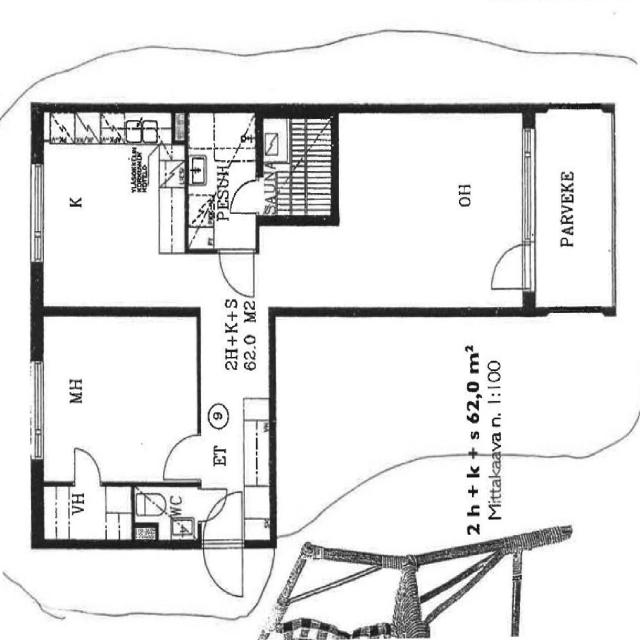door: (189, 115, 261, 244), (198, 491, 251, 606), (483, 234, 539, 292), (157, 428, 205, 482), (216, 245, 258, 300), (225, 173, 266, 216), (67, 443, 106, 488), (198, 482, 232, 522)
window: (516, 123, 542, 244), (24, 354, 50, 465), (24, 157, 49, 270)
zone: (262, 104, 532, 314), (35, 109, 183, 314), (36, 313, 200, 484), (403, 543, 517, 640), (186, 113, 259, 242), (262, 113, 337, 217), (40, 483, 134, 546), (130, 482, 200, 544)
